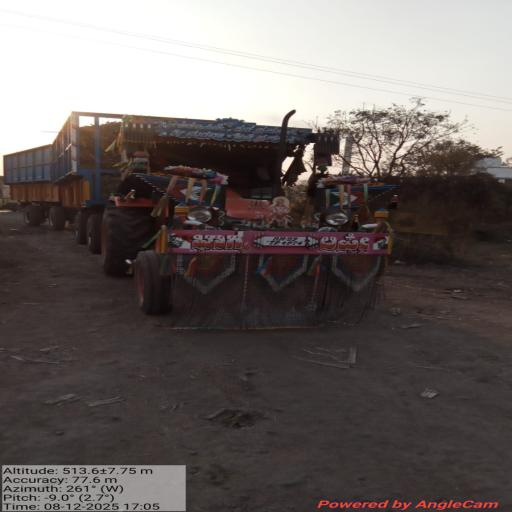number_plate: (254, 232, 326, 250)
